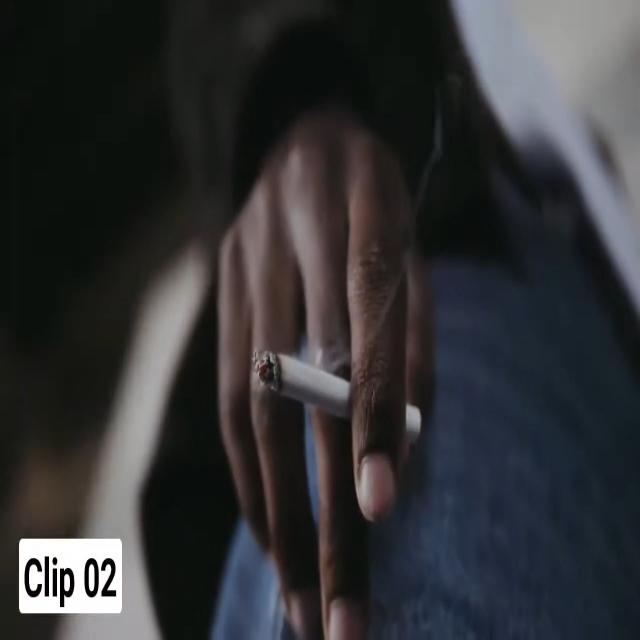Курение: (250, 346, 422, 454)
